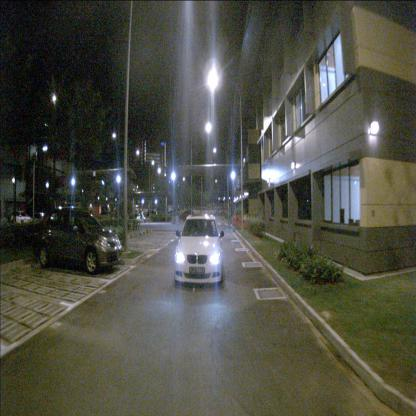barrier: (238, 214, 249, 228), (233, 214, 243, 226)
